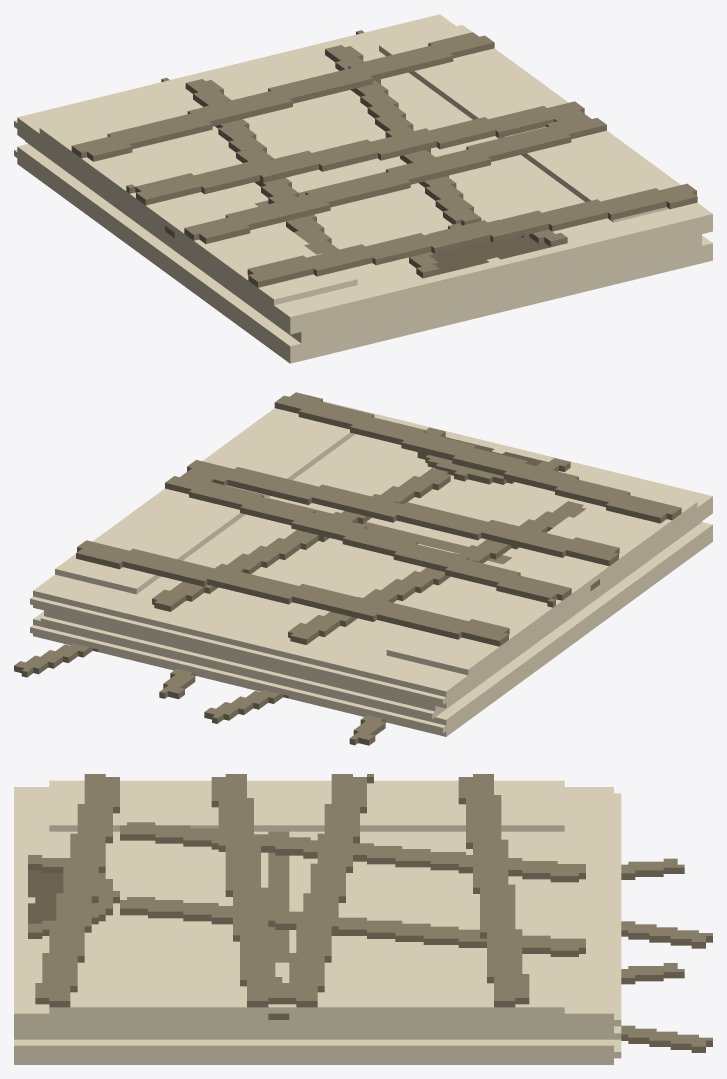
The model's file is mummy_dress.glb.
3 renders of one model, top to bottom at view 1: azimuth 30°, elevation 25°; view 2: azimuth 150°, elevation 25°; view 3: azimuth 270°, elevation 25°, orthographic. The views are drawn at different scales.
Visible parts, largest first — view 1: mummy_dress:compound; view 2: mummy_dress:compound; view 3: mummy_dress:compound.
Boxes of the visible parts, x1,y1,x2,y2 form: mummy_dress:compound: (14, 14, 712, 363); mummy_dress:compound: (14, 392, 712, 745); mummy_dress:compound: (14, 774, 712, 1064).
Bounding box in the file's own units: 0.304 × 0.04 × 0.396.
